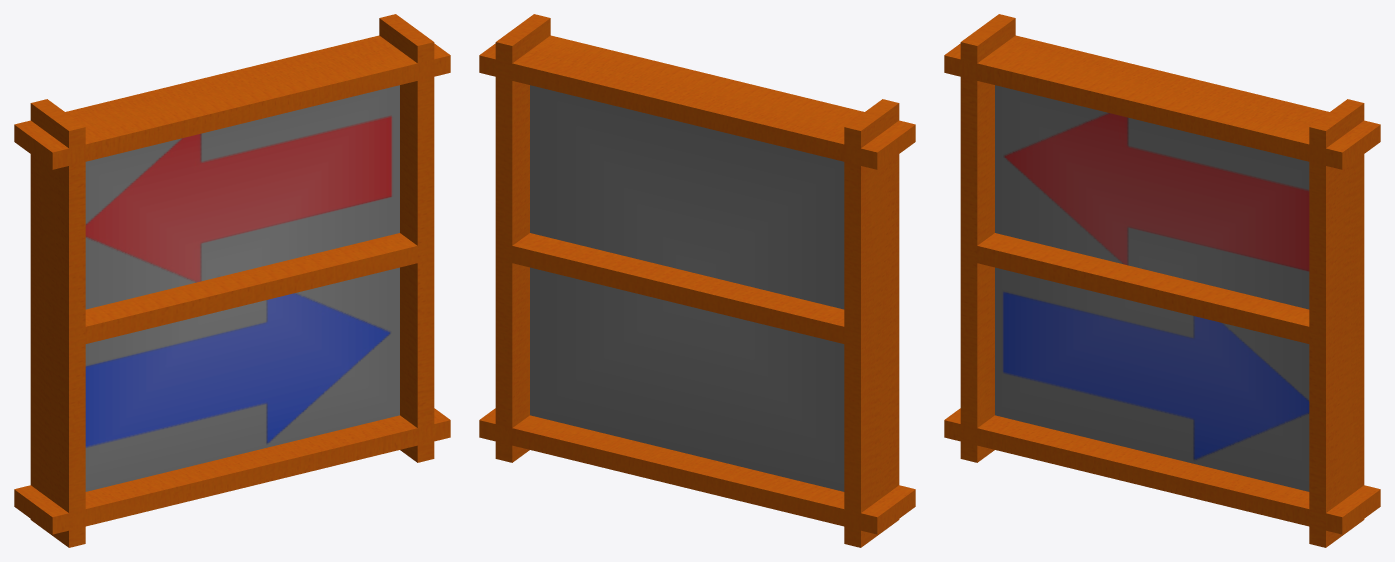
File: GunSwapTarget.fbx
3 views of the same model, side by side, from view 1: azimuth 30°, elevation 25°; view 2: azimuth 150°, elevation 25°; view 3: azimuth 330°, elevation 25° (orthographic).
Parts seen in each view (by area): view 1: gunSwapTarget; view 2: gunSwapTarget; view 3: gunSwapTarget.
Part boxes in pixels (box(x1,y1,x2,y2)): gunSwapTarget: box(14, 14, 450, 547); gunSwapTarget: box(479, 14, 915, 547); gunSwapTarget: box(944, 14, 1380, 547).
Bounding box in the file's own units: 1200 × 1200 × 200.
